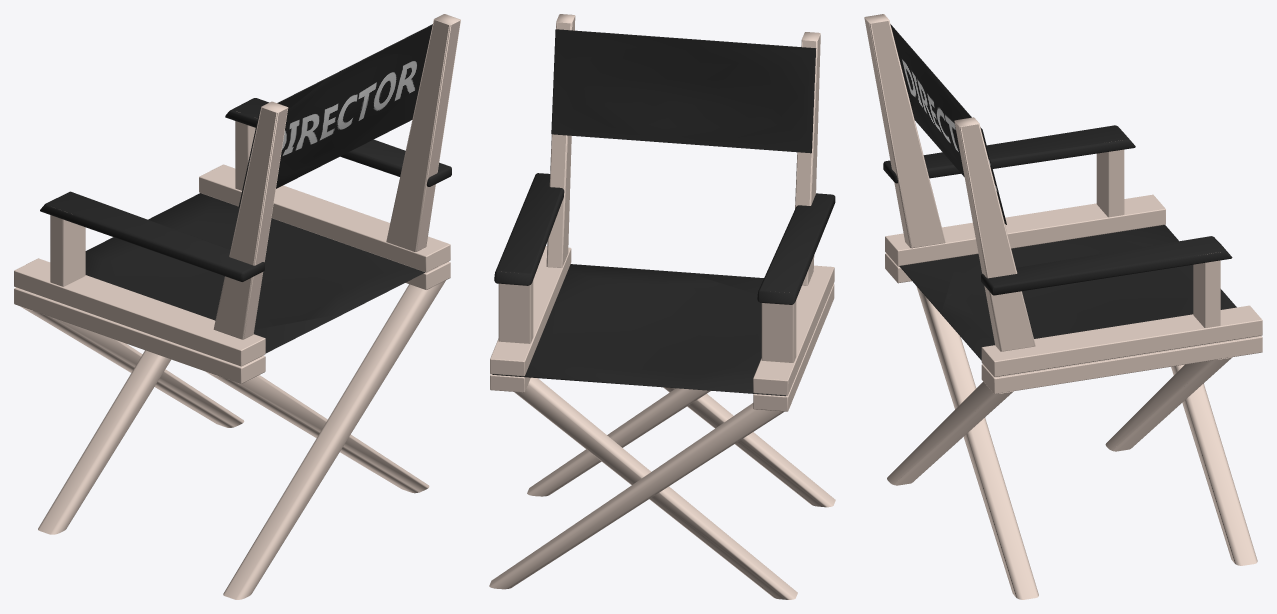
File: piece1.glb
The picture shows the model from 3 angles, left to right: view 1: azimuth 30°, elevation 25°; view 2: azimuth 150°, elevation 25°; view 3: azimuth 270°, elevation 25°; orthographic projection. The views are drawn at different scales.
Visible parts, largest first — view 1: Object_2.001; view 2: Object_2.001; view 3: Object_2.001.
Part boxes in pixels (left/top/right/bottom): Object_2.001: left=14, top=14, right=460, bottom=599; Object_2.001: left=489, top=14, right=835, bottom=599; Object_2.001: left=864, top=14, right=1262, bottom=599.
Size of the model in its own units: 2.04 by 2.68 by 2.05.
3 materials, 1 textured.
